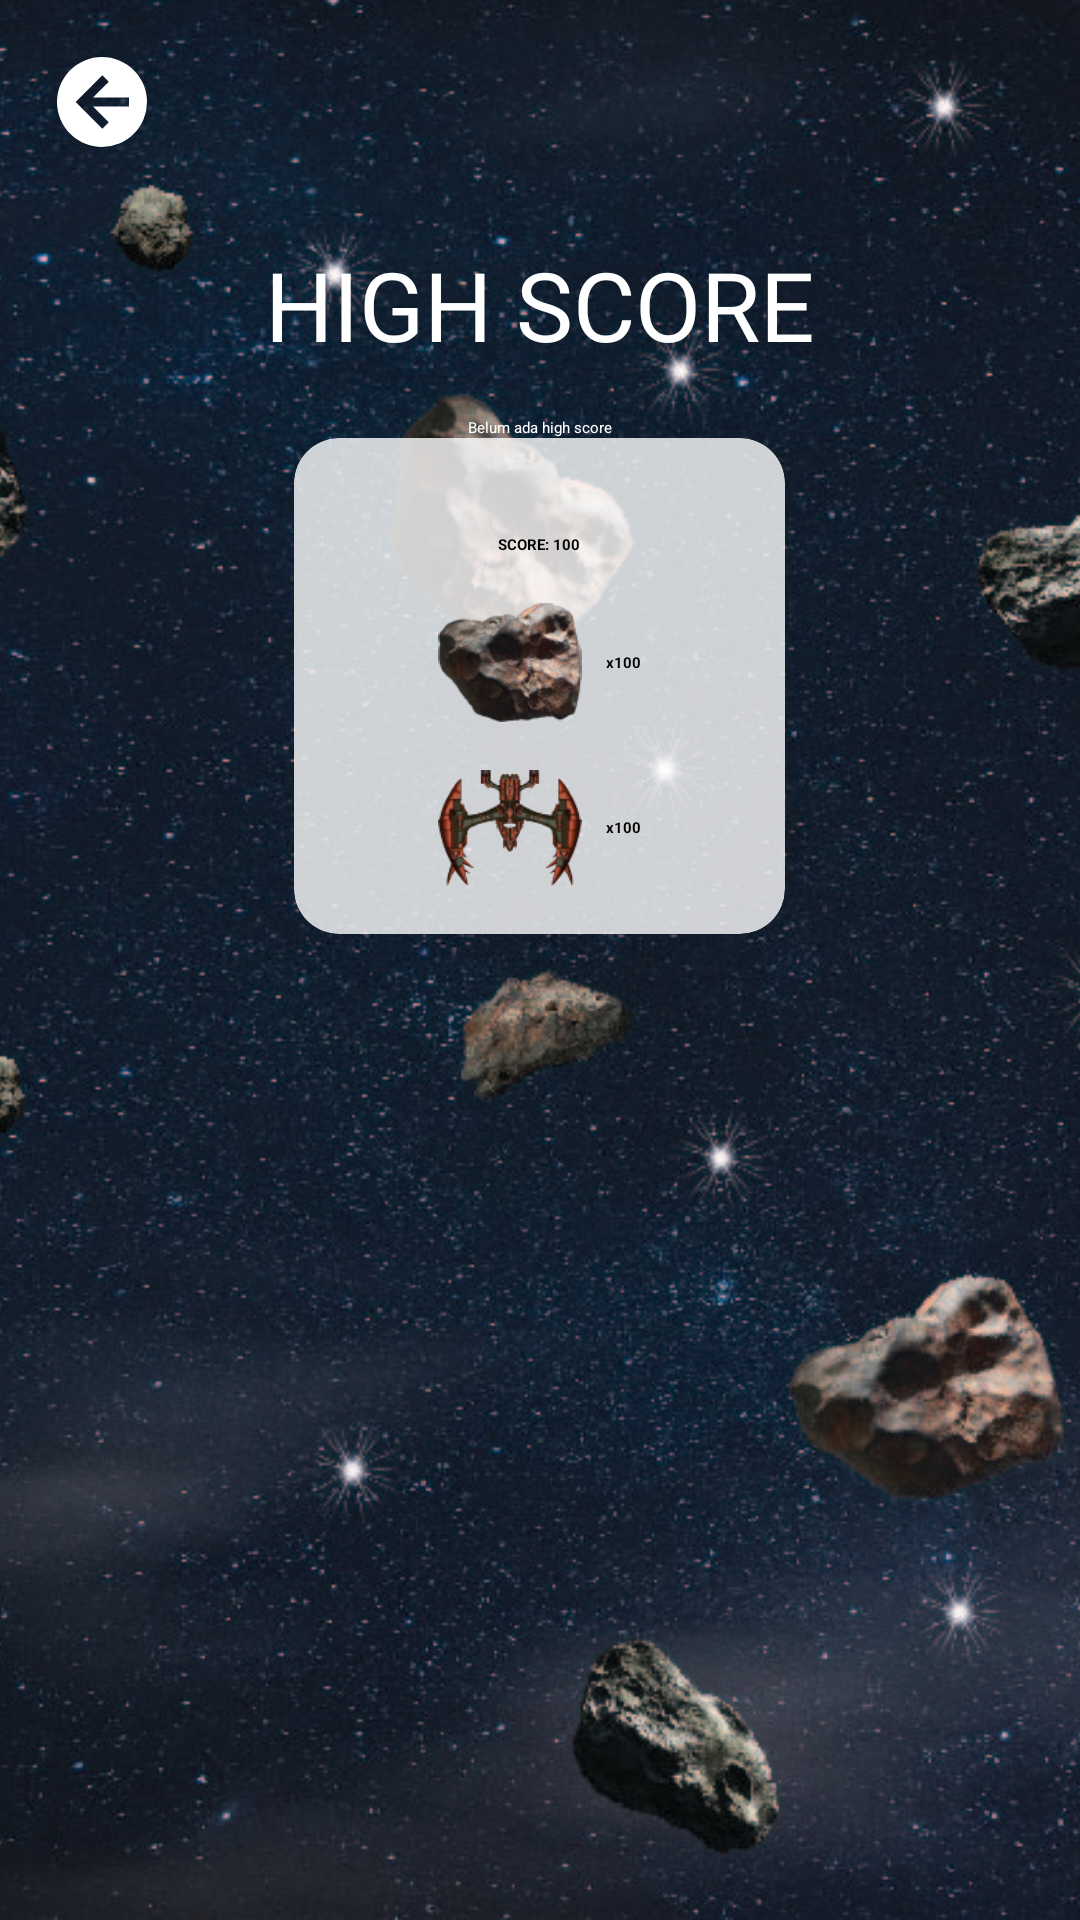

Icon click points for this 1080×1920 phone screenshot, format [x,y]:
arrow left circle: [102,105]
enemy: [510,828]
meteor: [510,662]
